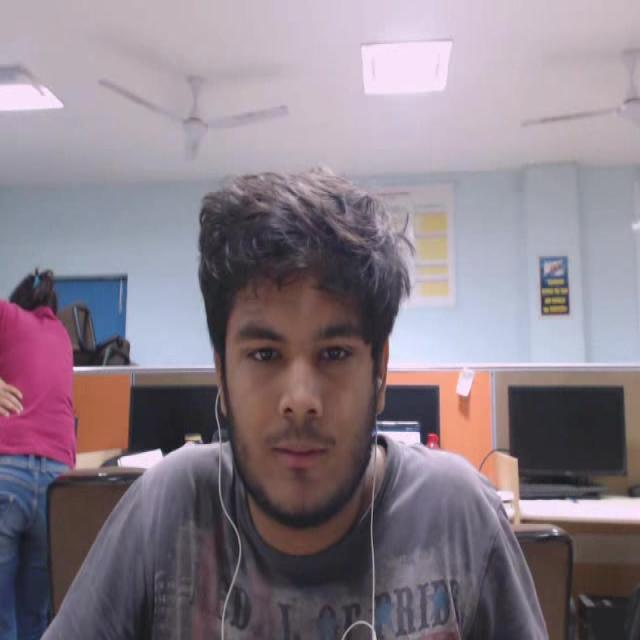Engaged: (168, 127, 434, 550)
